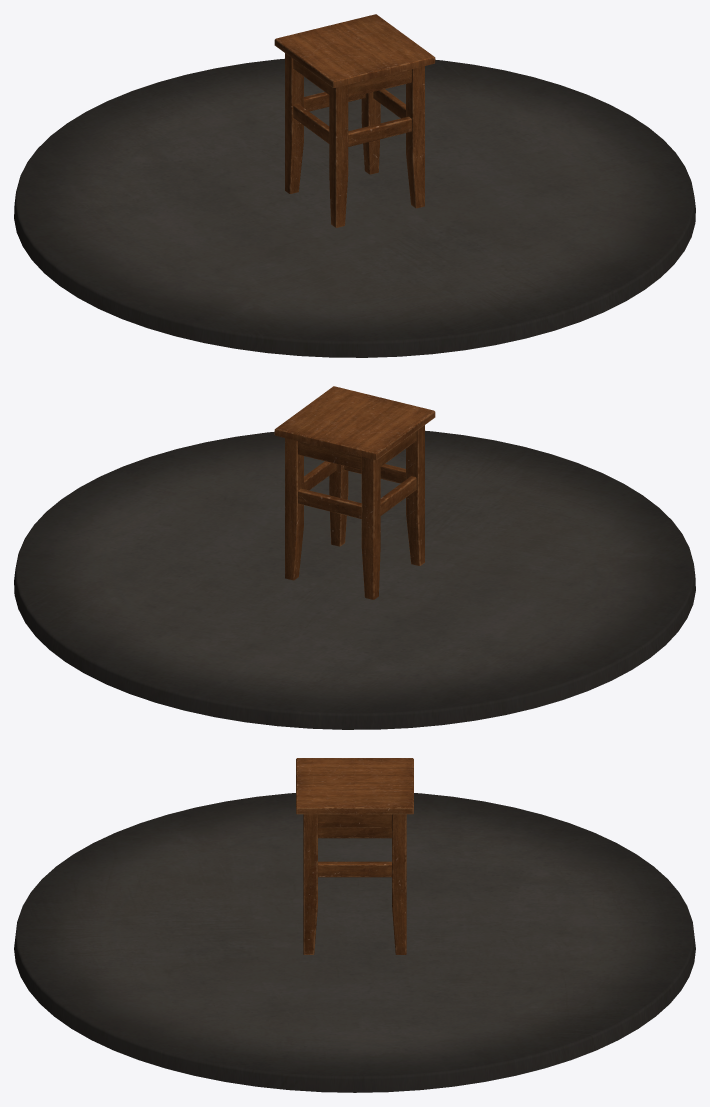
File: stool.glb
3 renders of one model, top to bottom at view 1: azimuth 30°, elevation 25°; view 2: azimuth 150°, elevation 25°; view 3: azimuth 270°, elevation 25°, orthographic.
Parts seen in each view (by area): view 1: circle001_concrete_0, stool_stool_0; view 2: circle001_concrete_0, stool_stool_0; view 3: circle001_concrete_0, stool_stool_0.
Part boxes in pixels (left/top/right/bottom): circle001_concrete_0: left=14, top=58, right=695, bottom=357; stool_stool_0: left=274, top=14, right=435, bottom=227; circle001_concrete_0: left=14, top=430, right=695, bottom=729; stool_stool_0: left=274, top=386, right=435, bottom=599; circle001_concrete_0: left=14, top=793, right=695, bottom=1092; stool_stool_0: left=296, top=758, right=413, bottom=954.
Size of the model in its own units: 203 by 54.61 by 203.
2 materials, 2 textured.
